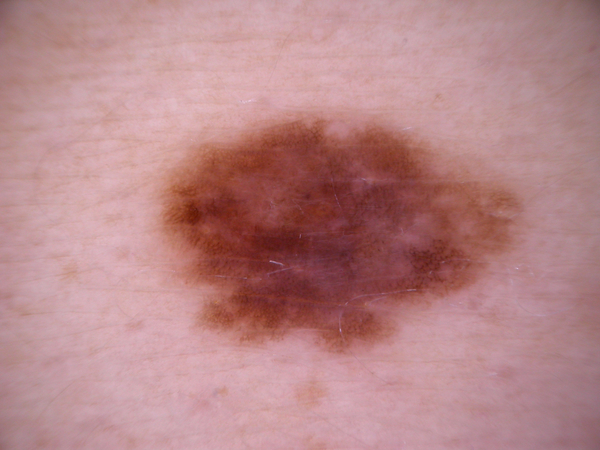Detected Lesion: (157, 108, 538, 356)
